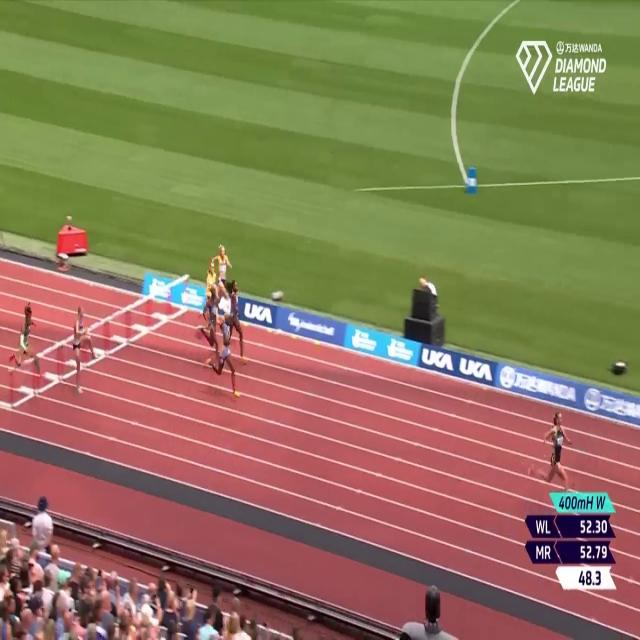athlete: (530, 395, 572, 500), (208, 314, 244, 402), (70, 301, 98, 395), (15, 301, 44, 374), (227, 282, 247, 368), (214, 241, 237, 314)
hurdle: (79, 319, 105, 381), (36, 340, 60, 402), (10, 357, 38, 408), (106, 299, 131, 353), (168, 273, 192, 325), (131, 290, 154, 341), (151, 280, 172, 331)
